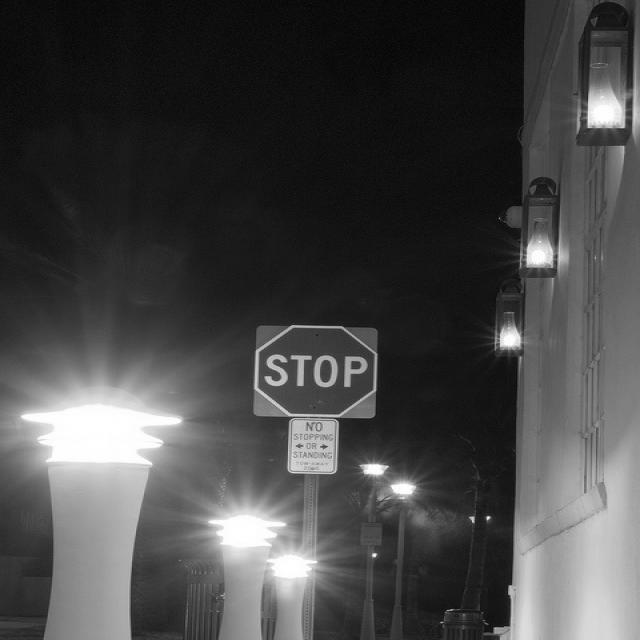pole: (293, 473, 327, 639)
